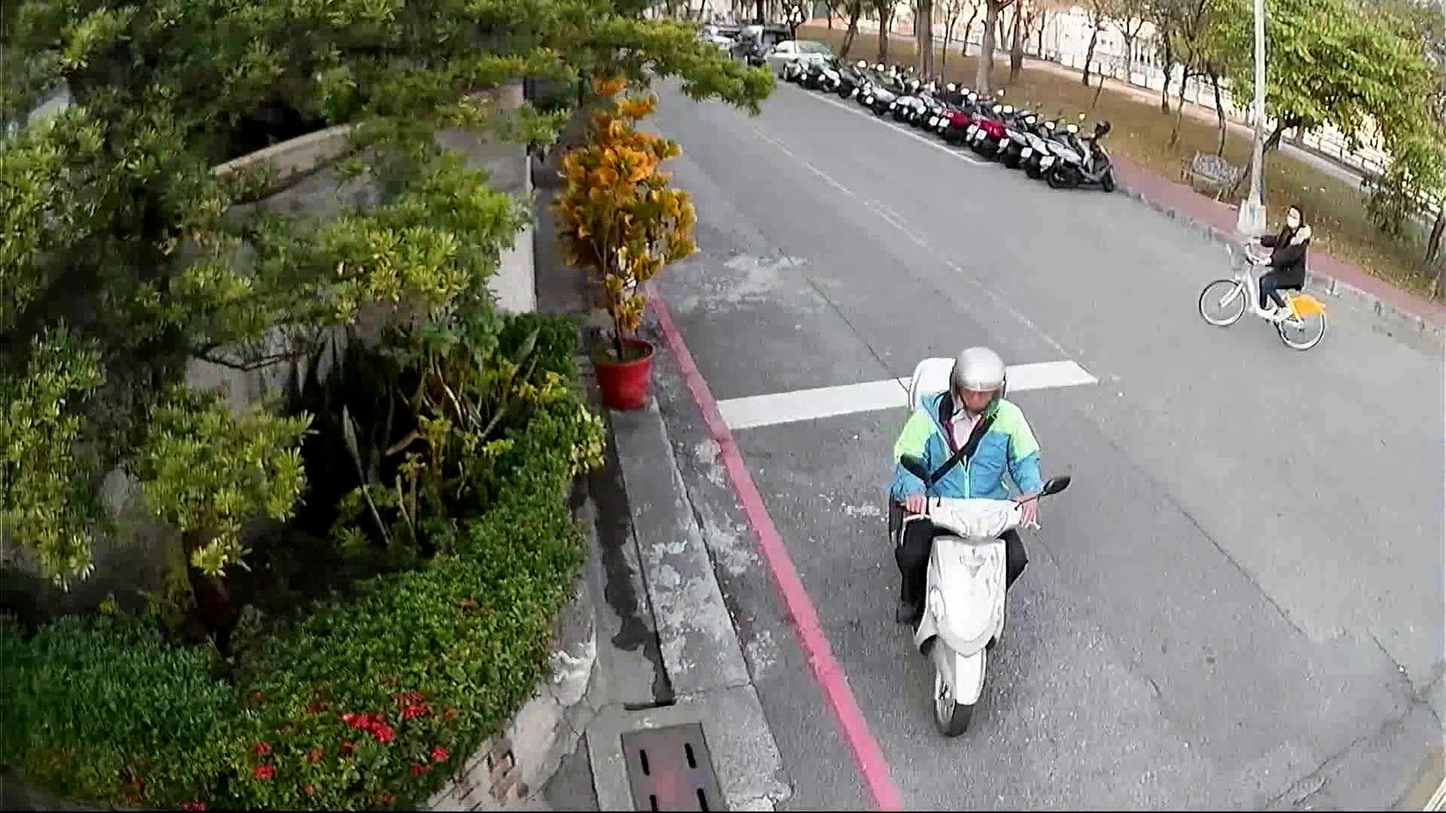person: (887, 337, 1049, 635), (1239, 197, 1313, 324)
